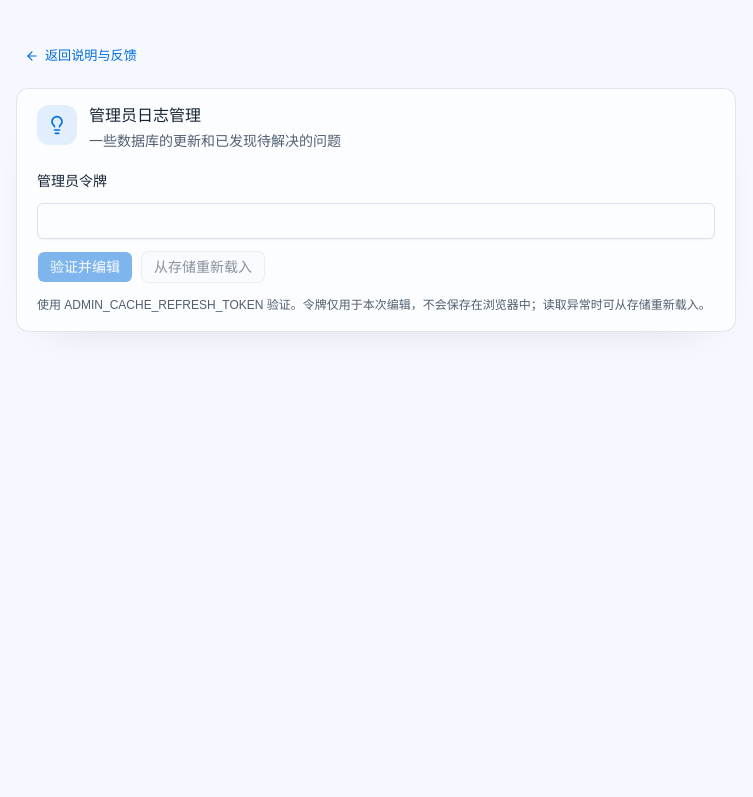
Test: failed authentication hides the editor and publication conflict preserves the draft
In the password field labelled "管理员令牌": (376, 221) [37,203,715,239], type "wrong"
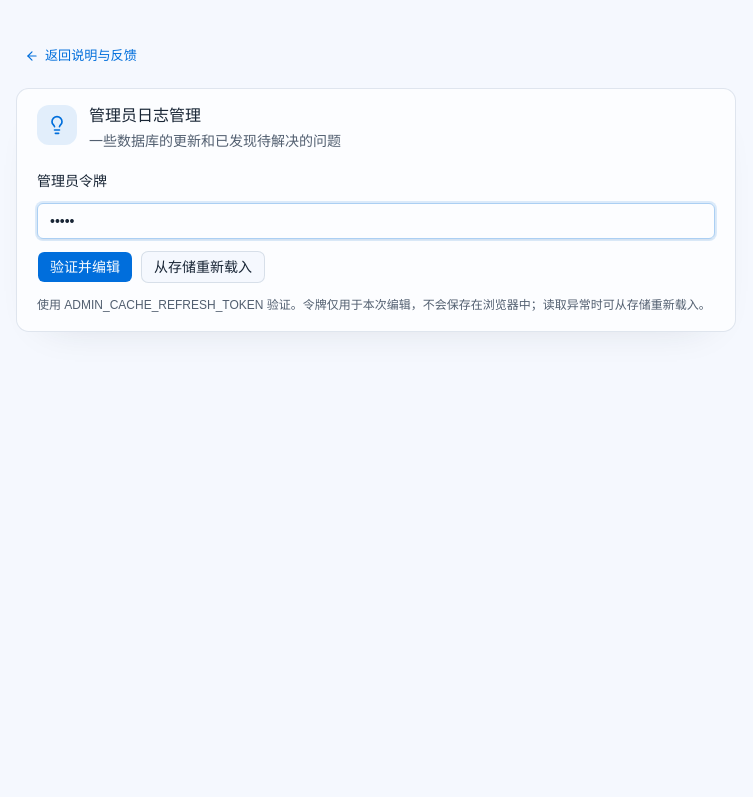
Click the button "验证并编辑": (85, 267) [37,251,133,283]
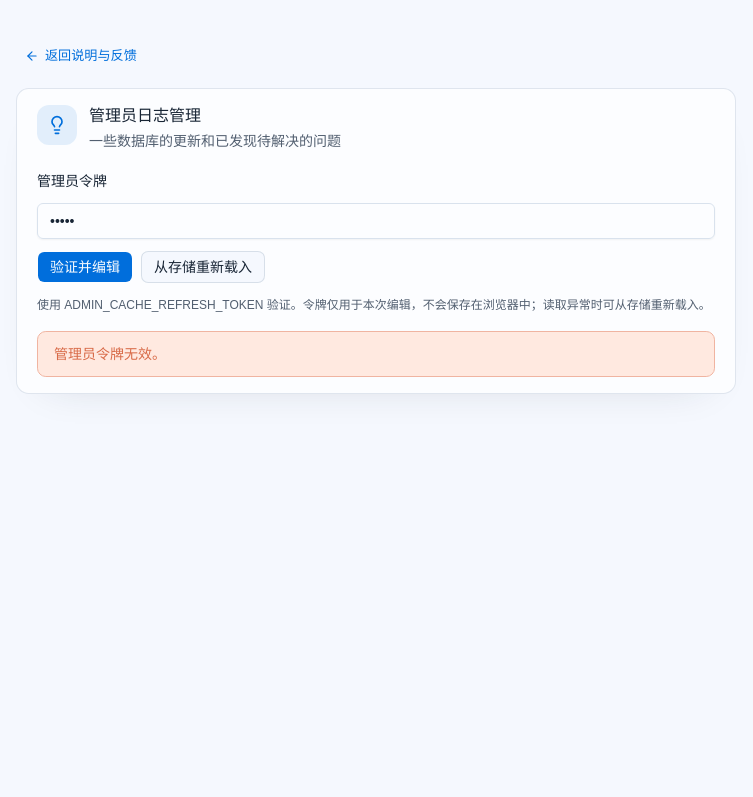
Expected: the button "发布更新" is not shown
Result: the message reads "管理员令牌无效。" at [54,346,166,362]
Click the button "验证并编辑": (85, 267) [37,251,133,283]
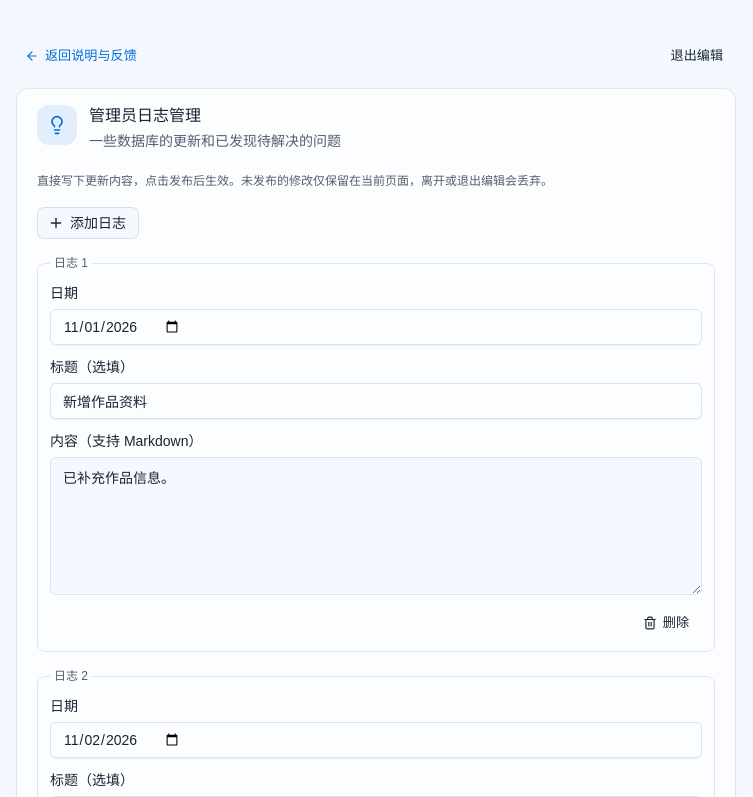
Replace the text in the 1st field labelled "标题（选填）" with "保留这份修改": (376, 401) [50,383,702,419]
(page scrolled)
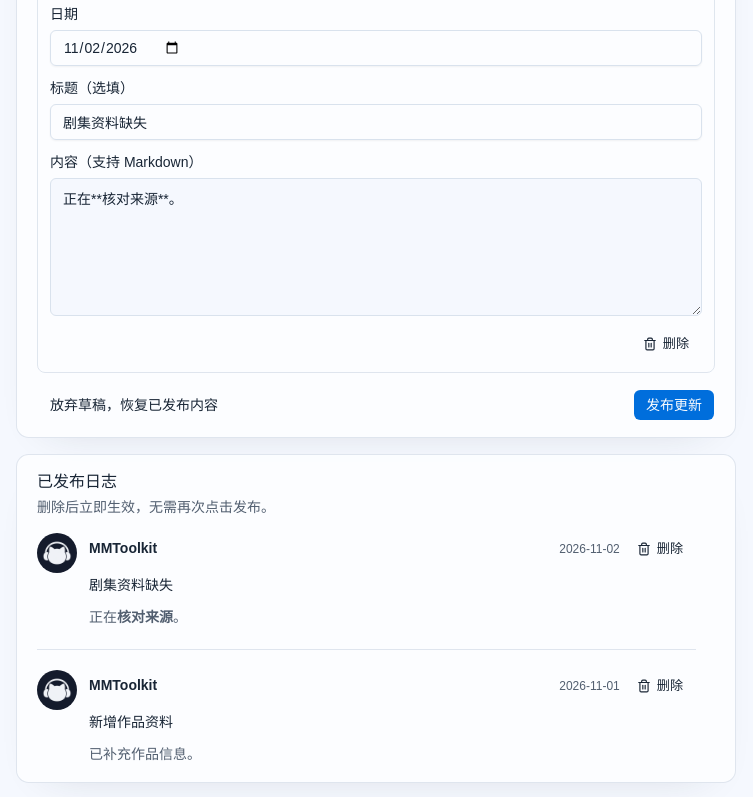
Click the button "发布更新": (674, 405) [633,389,715,421]
(page scrolled)
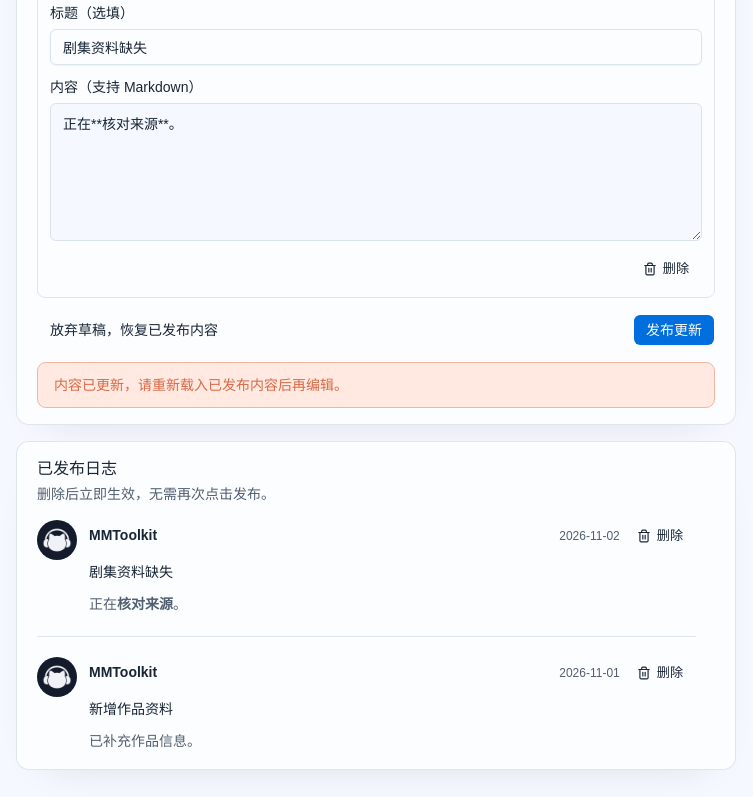
Result: the element "新增作品资料" is shown at [37,657,696,753]
Result: the message shows "内容已更新" at [54,377,348,393]
